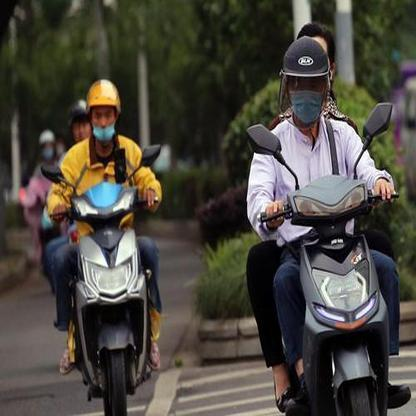target: (243, 35, 411, 411), (41, 77, 182, 402)
